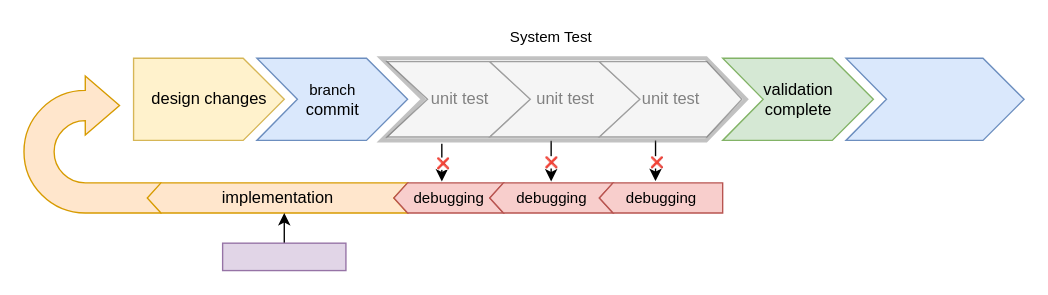
Some shapes in this 1048 by 295 pixel diagram are drawn without their labels. Here are the shapes that lost their labels. From the top down, the centre of each, then its label:
At point 934,98: "master deploy".
At point 283,256: "New instruction".
